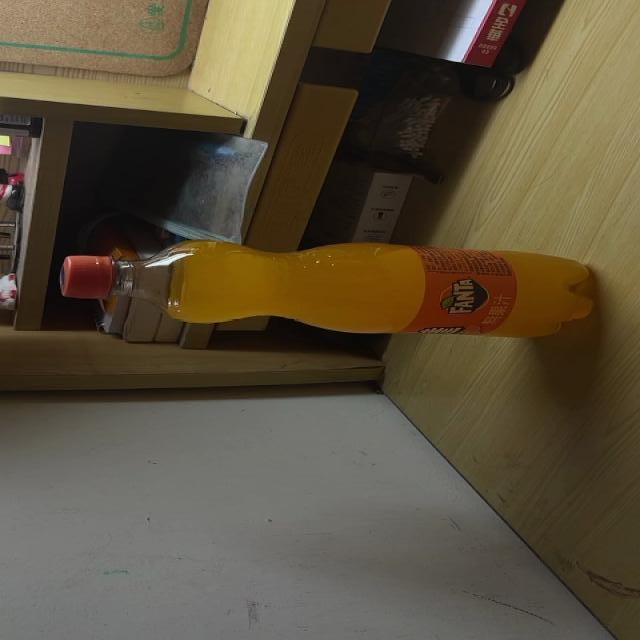Fanta: (61, 239, 596, 334)
